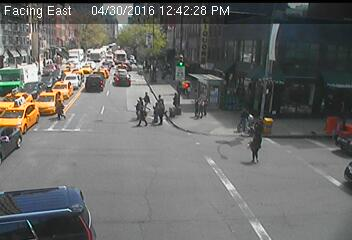neg: (315, 38, 342, 74), (143, 32, 170, 67), (303, 42, 326, 73), (277, 39, 300, 68), (234, 37, 254, 64), (254, 36, 274, 62), (112, 33, 131, 58), (188, 41, 206, 65), (172, 45, 190, 68), (218, 36, 235, 59), (96, 35, 113, 57), (60, 44, 76, 65), (135, 33, 151, 54), (24, 49, 38, 68), (78, 40, 90, 57)
pos: (242, 130, 267, 164), (152, 99, 172, 126), (231, 106, 251, 132), (48, 95, 67, 120), (133, 104, 150, 127), (166, 90, 183, 112)
